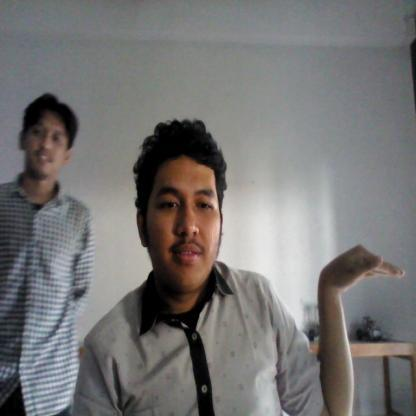Z: (313, 244, 405, 410)
